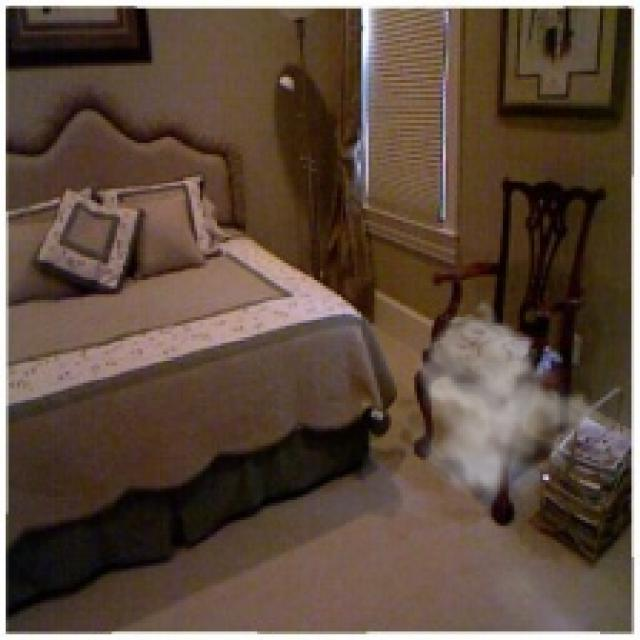smoke: (397, 297, 609, 506)
